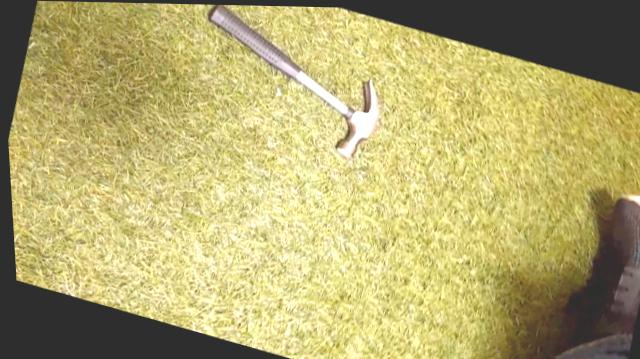hammer: (176, 3, 406, 173)
